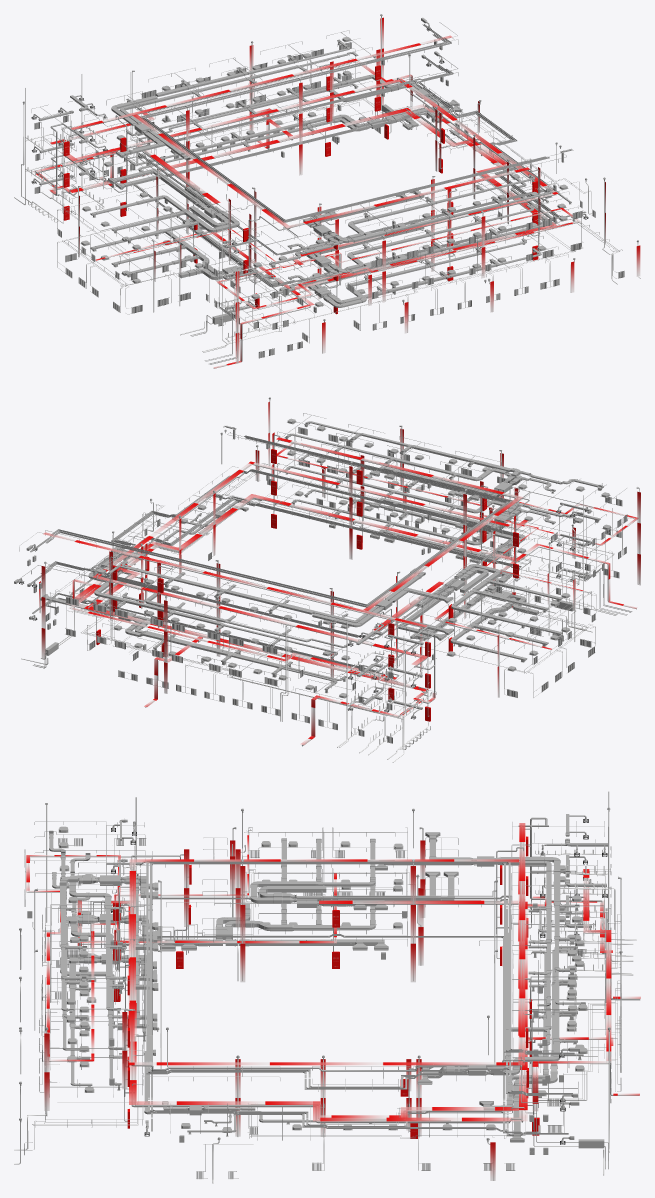
File: jd2jxl.gltf
The picture shows the model from 3 angles, top to bottom: view 1: azimuth 30°, elevation 25°; view 2: azimuth 150°, elevation 25°; view 3: azimuth 270°, elevation 25°; orthographic projection. The views are drawn at different scales.
Parts seen in each view (by area): view 1: 2jxl1cjdsg, 2jxl2cjdfg, 2jxl2cjdsg, 2jxl1cjdfg, 2jxl2cjdsglx, 2jxl3cjdfg, 2jxl1cjdsglx, 2jxl3cjdsg, 2jxl3cjdsglx, 2jxl2cjdxhs, 2jxl3cjdxhs, 2jxl1cjdxhs (+4 smaller); view 2: 2jxl1cjdsg, 2jxl2cjdfg, 2jxl2cjdsg, 2jxl2cjdsglx, 2jxl1cjdfg, 2jxl3cjdfg, 2jxl1cjdsglx, 2jxl3cjdsg, 2jxl2cjdxhs, 2jxl3cjdsglx, 2jxl3cjdxhs, 2jxl1cjdxhs (+4 smaller); view 3: 2jxl1cjdsg, 2jxl2cjdsglx, 2jxl2cjdsg, 2jxl2cjdfg, 2jxl1cjdfg, 2jxl3cjdfg, 2jxl1cjdsglx, 2jxl3cjdsg, 2jxl3cjdsglx, 2jxl2cjddw, 2jxl2cjdxhs, 2jxl3cjdxhs (+4 smaller).
Boxes of the visible parts, x1,y1,x2,y2 form: 2jxl1cjdsg: (14, 86, 640, 368); 2jxl2cjdfg: (32, 51, 547, 297); 2jxl2cjdsg: (21, 49, 638, 333); 2jxl1cjdfg: (31, 99, 588, 317); 2jxl2cjdsglx: (50, 48, 605, 332); 2jxl3cjdfg: (31, 17, 573, 267); 2jxl1cjdsglx: (33, 86, 640, 368); 2jxl3cjdsg: (23, 17, 604, 302); 2jxl3cjdsglx: (71, 17, 605, 302); 2jxl2cjdxhs: (35, 73, 638, 329); 2jxl3cjdxhs: (34, 40, 582, 299); 2jxl1cjdxhs: (34, 104, 624, 358); 2jxl1cjdsg: (21, 450, 639, 762); 2jxl2cjdfg: (14, 453, 600, 687); 2jxl2cjdsg: (19, 433, 639, 717); 2jxl2cjdsglx: (41, 433, 640, 679); 2jxl1cjdfg: (29, 489, 589, 719); 2jxl3cjdfg: (26, 421, 603, 654); 2jxl1cjdsglx: (39, 450, 640, 744); 2jxl3cjdsg: (19, 401, 639, 685); 2jxl2cjdxhs: (33, 445, 626, 710); 2jxl3cjdsglx: (41, 401, 640, 631); 2jxl3cjdxhs: (27, 427, 627, 678); 2jxl1cjdxhs: (45, 479, 619, 743); 2jxl1cjdsg: (14, 868, 640, 1183); 2jxl2cjdsglx: (26, 833, 611, 1111); 2jxl2cjdsg: (20, 827, 621, 1124); 2jxl2cjdfg: (52, 838, 607, 1111); 2jxl1cjdfg: (60, 884, 605, 1144); 2jxl3cjdfg: (49, 814, 607, 1057); 2jxl1cjdsglx: (77, 873, 640, 1180); 2jxl3cjdsg: (25, 791, 621, 1071); 2jxl3cjdsglx: (44, 823, 525, 1072); 2jxl2cjddw: (146, 895, 572, 1095); 2jxl2cjdxhs: (19, 850, 621, 1142); 2jxl3cjdxhs: (24, 827, 621, 1084).
Bounding box in the file's own units: 65.71 × 16.73 × 61.63.
Materials: 9 (2 with a texture image).
